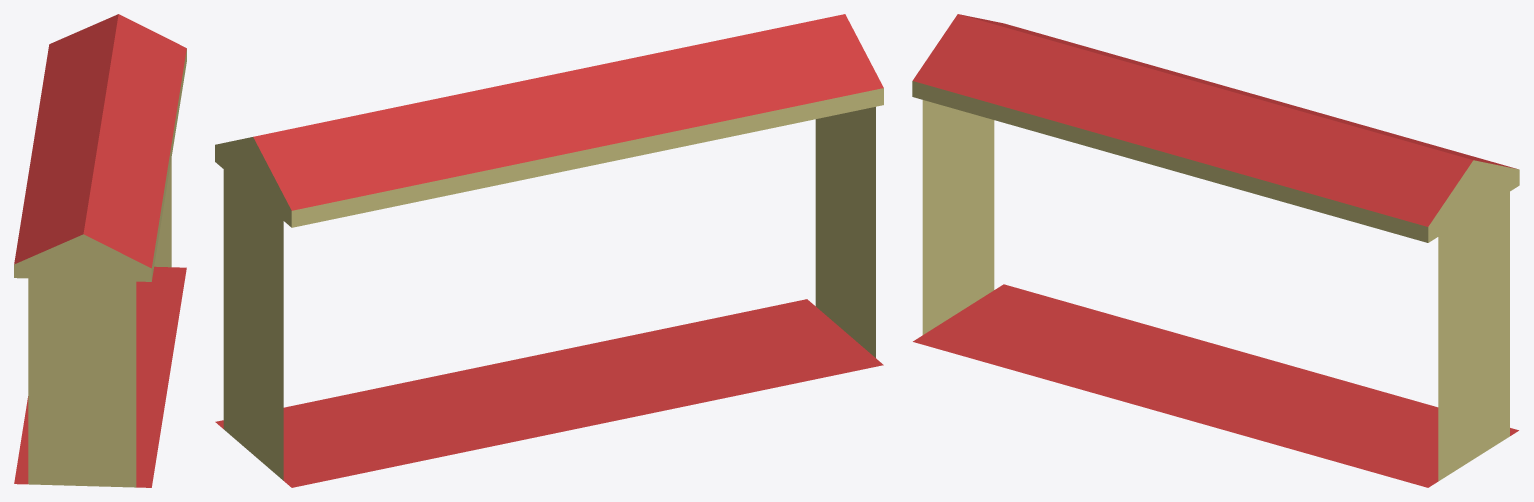
3 renders of one model, left to right at view 1: azimuth 30°, elevation 25°; view 2: azimuth 150°, elevation 25°; view 3: azimuth 270°, elevation 25°, orthographic. The views are drawn at different scales.
Parts seen in each view (by area): view 1: group_3, group_4, group_5; view 2: group_3, group_5, group_4; view 3: group_4, group_3, group_5.
Part boxes in pixels (x1=…): group_3: x1=14, y1=14, x2=186, y2=268; group_4: x1=14, y1=49, x2=186, y2=487; group_5: x1=14, y1=266, x2=186, y2=487; group_3: x1=253, y1=14, x2=883, y2=210; group_5: x1=215, y1=299, x2=883, y2=487; group_4: x1=215, y1=88, x2=883, y2=480; group_4: x1=912, y1=81, x2=1519, y2=481; group_3: x1=912, y1=14, x2=1516, y2=226; group_5: x1=913, y1=284, x2=1518, y2=487.
Bounding box in the file's own units: 34.85 × 43.88 × 23.86.
